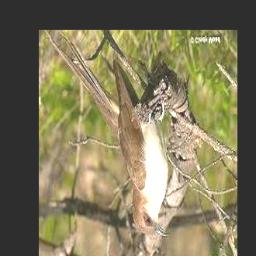Cuckoo: (112, 61, 171, 238)
